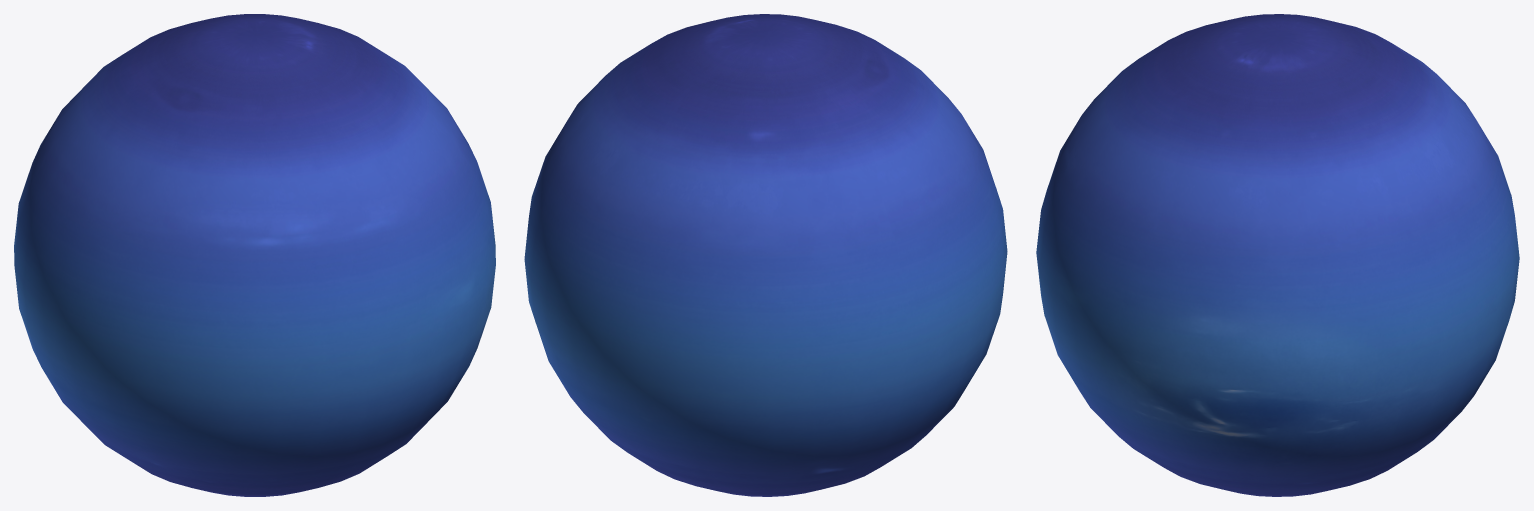
File: Neptune.obj
3 views of the same model, side by side, from view 1: azimuth 30°, elevation 25°; view 2: azimuth 150°, elevation 25°; view 3: azimuth 270°, elevation 25° (orthographic).
Parts seen in each view (by area): view 1: 68; view 2: 68; view 3: 68.
Part boxes in pixels (bbox=[...]): 68: bbox=[14, 14, 495, 496]; 68: bbox=[524, 14, 1007, 496]; 68: bbox=[1036, 14, 1519, 496].
Size of the model in its own units: 2.72 by 2.72 by 2.72.
Materials: 1 (1 with a texture image).
